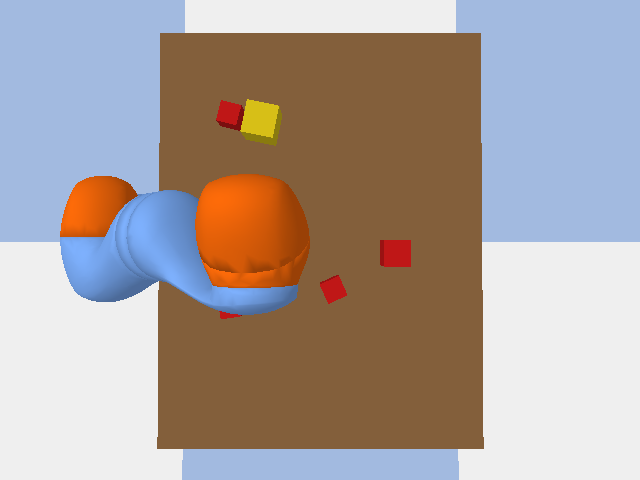red_obj: (216, 100, 243, 130), (380, 240, 410, 266), (320, 275, 346, 303), (219, 311, 241, 318)
yellow_obj: (240, 99, 281, 145)
